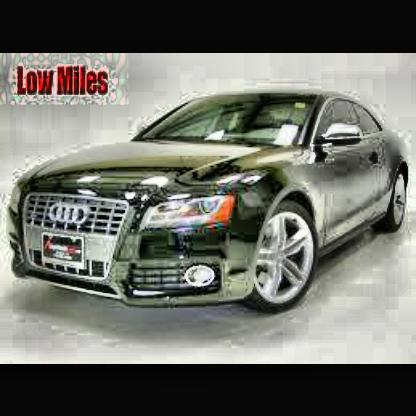Audi S5 Coupe 2012: (7, 91, 394, 317)
